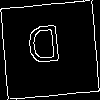D: (24, 25, 64, 74)
